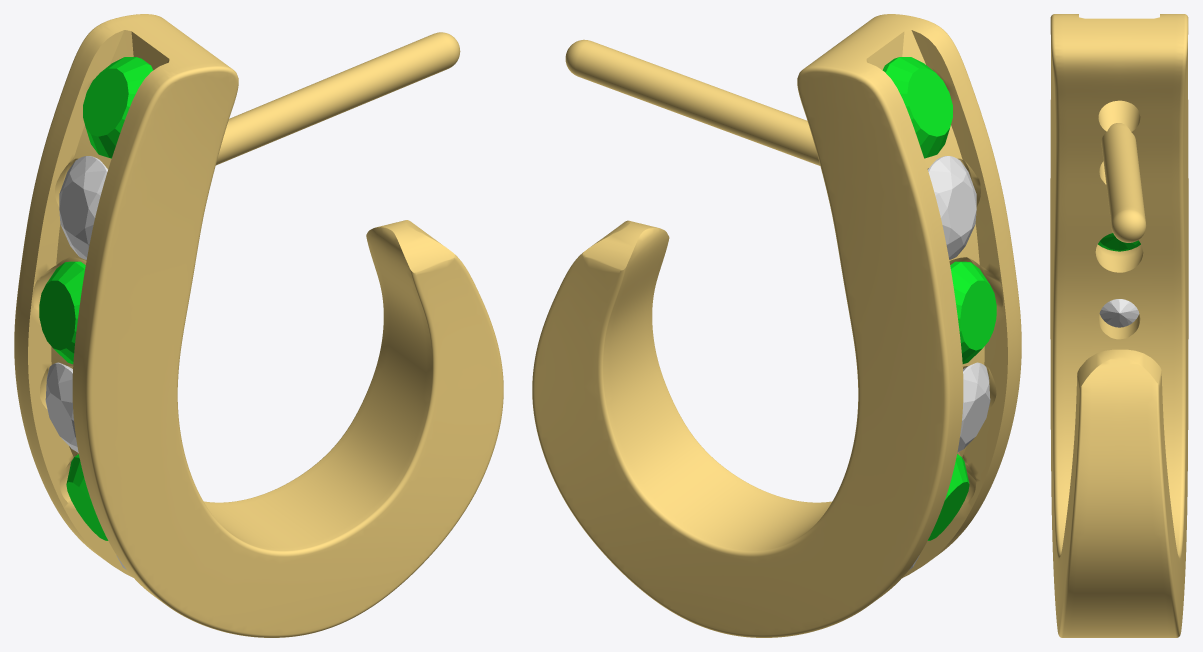
Rendered from Donna_Cassidy_earring_blender.glb.
3 renders of one model, left to right at view 1: azimuth 30°, elevation 25°; view 2: azimuth 150°, elevation 25°; view 3: azimuth 270°, elevation 25°, orthographic. The views are drawn at different scales.
Parts seen in each view (by area): view 1: Donna YG for 3d model, Donna emerald for 3d model.002, Donna dia for 3d model.002, Donna emerald for 3d model.001, Donna dia for 3d model.001, Donna emerald for 3d model; view 2: Donna YG for 3d model, Donna emerald for 3d model.002, Donna dia for 3d model.002, Donna emerald for 3d model.001, Donna dia for 3d model.001, Donna emerald for 3d model; view 3: Donna YG for 3d model, Donna dia for 3d model.001, Donna emerald for 3d model.001.
Boxes of the visible parts, left/top/right/bottom form: Donna YG for 3d model: left=14, top=14, right=503, bottom=637; Donna emerald for 3d model.002: left=83, top=57, right=153, bottom=158; Donna dia for 3d model.002: left=59, top=156, right=107, bottom=259; Donna emerald for 3d model.001: left=39, top=261, right=85, bottom=364; Donna dia for 3d model.001: left=45, top=362, right=78, bottom=452; Donna emerald for 3d model: left=66, top=454, right=108, bottom=540; Donna YG for 3d model: left=532, top=14, right=1021, bottom=637; Donna emerald for 3d model.002: left=882, top=57, right=952, bottom=158; Donna dia for 3d model.002: left=928, top=156, right=976, bottom=259; Donna emerald for 3d model.001: left=950, top=261, right=996, bottom=363; Donna dia for 3d model.001: left=957, top=362, right=990, bottom=452; Donna emerald for 3d model: left=927, top=454, right=969, bottom=540; Donna YG for 3d model: left=1050, top=14, right=1188, bottom=637; Donna dia for 3d model.001: left=1099, top=299, right=1139, bottom=327; Donna emerald for 3d model.001: left=1098, top=233, right=1140, bottom=251.
Bounding box in the file's own units: 10.39 × 13.81 × 3.18.
